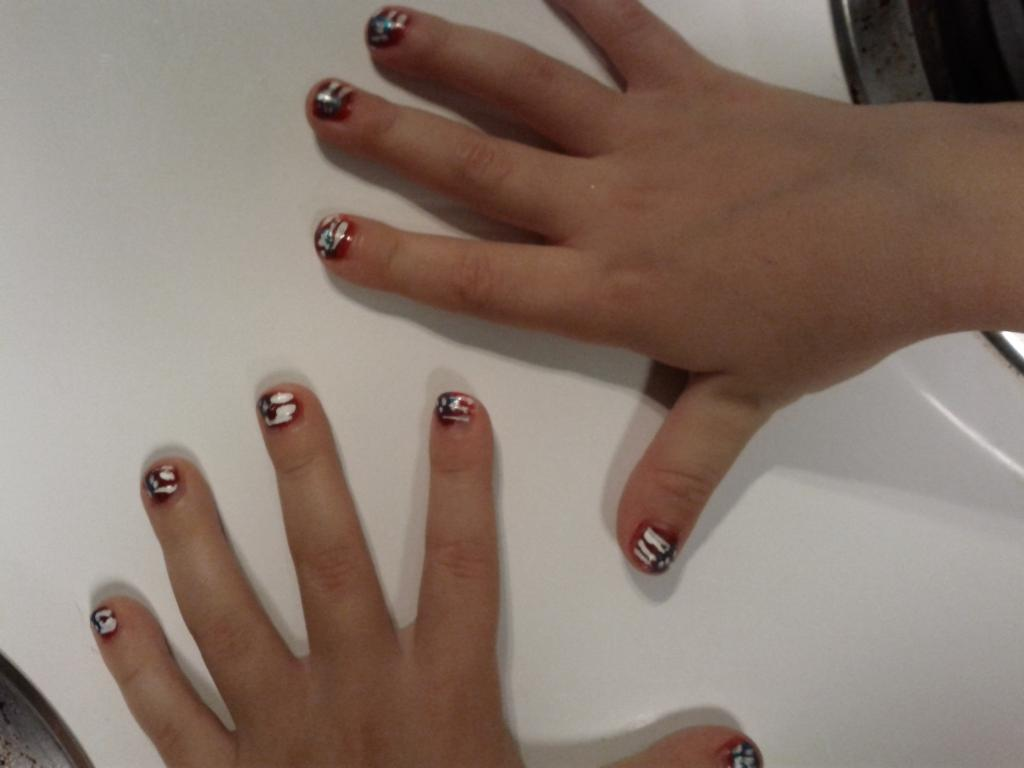Person: (299, 0, 1024, 579), (85, 386, 768, 768)
